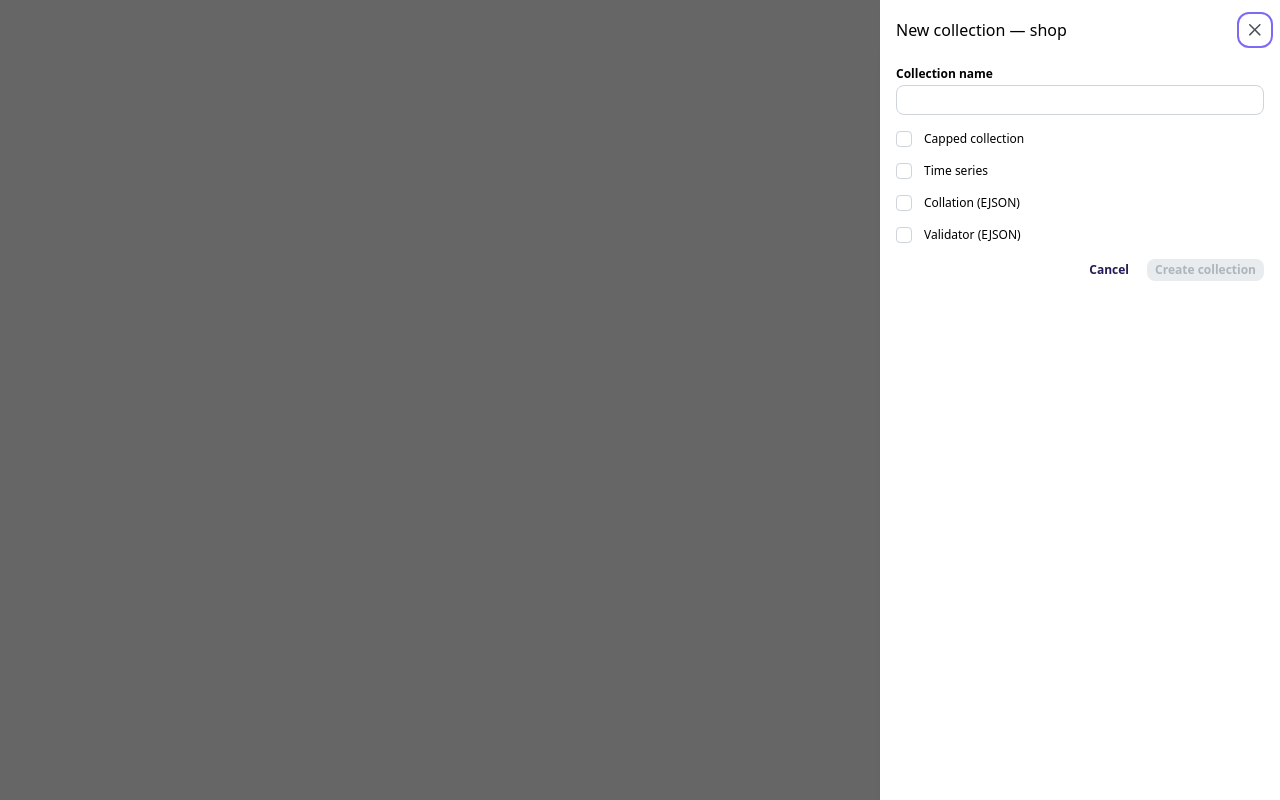
Scenario: CreateCollectionDrawer — fixed dbName (navigator mode) › rejects a JSON array as collation
The image size is (1280, 800).
Type "logs" into the field labelled "Collection name".
click(1080, 100); type("logs")  # box [896,85,1264,115]
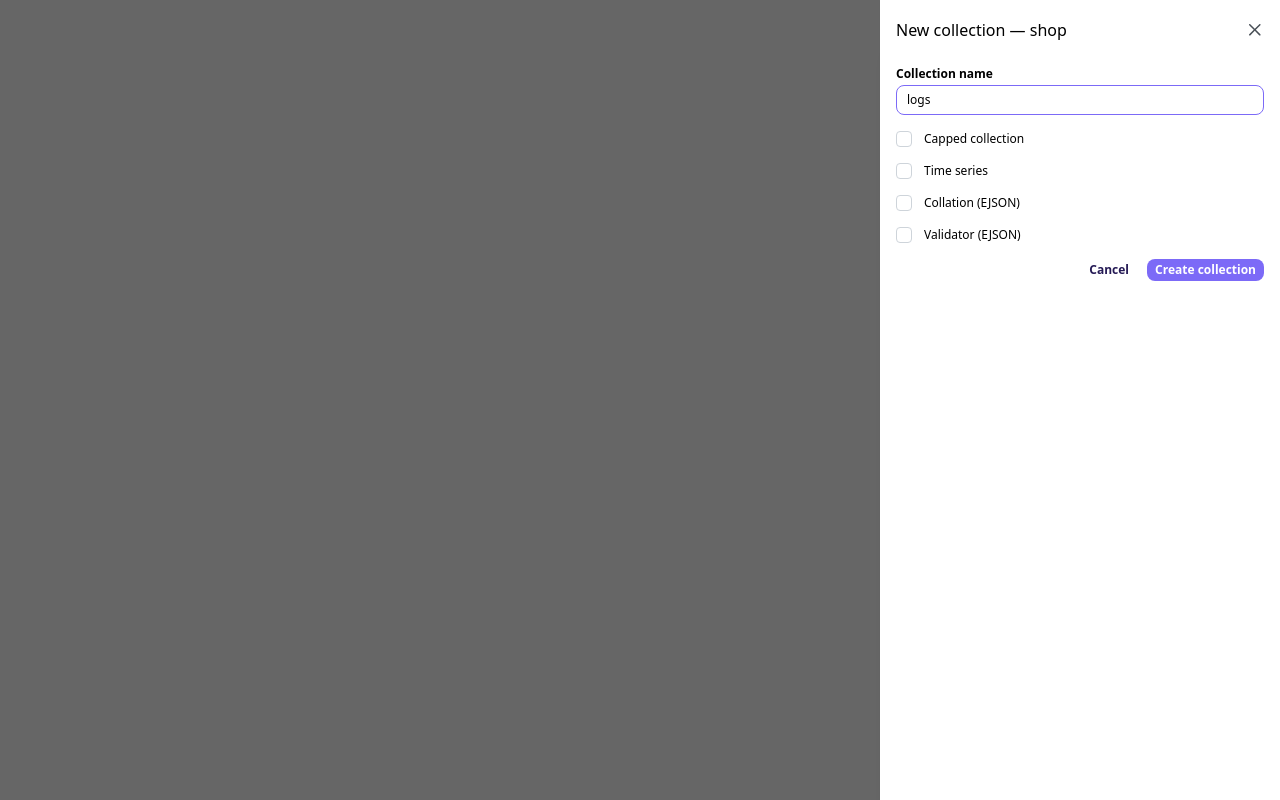
Click the checkbox labelled "Collation".
click(904, 203)  # box [896,195,912,211]
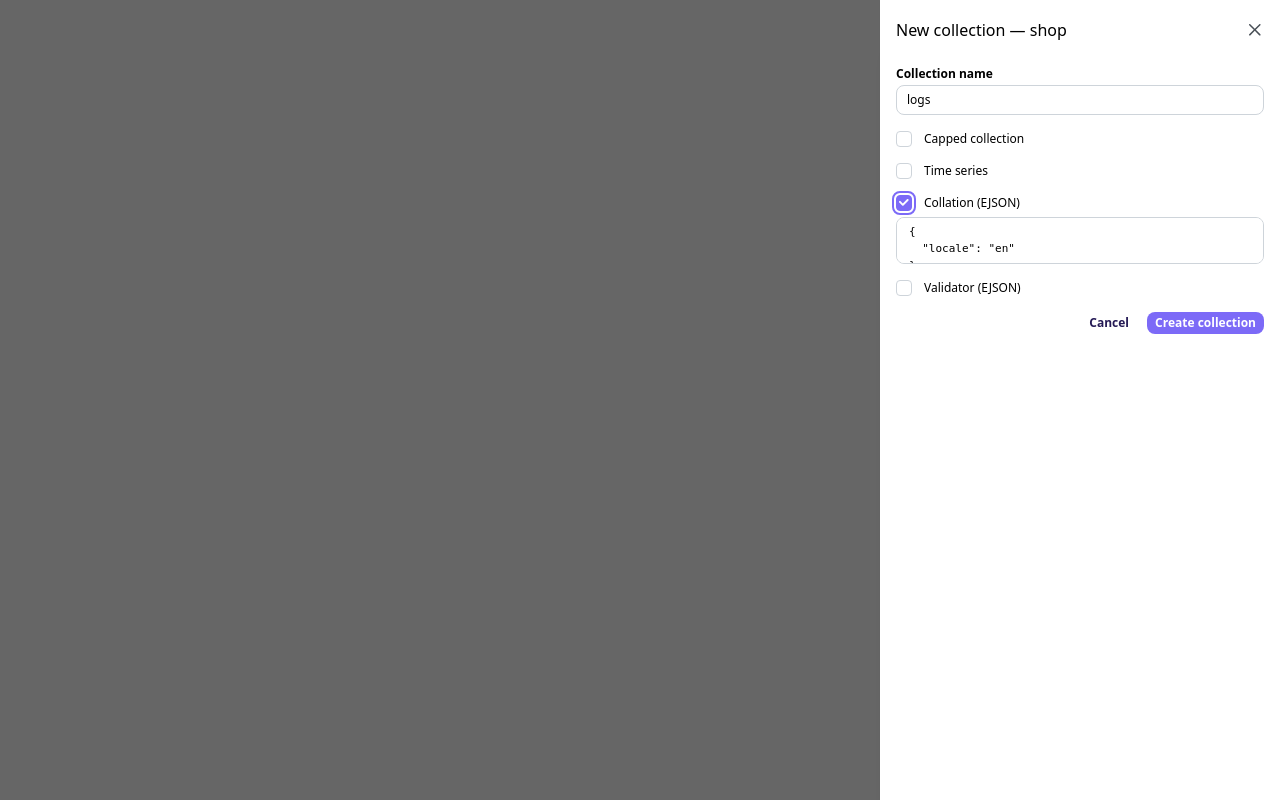
Replace the text in the text box named "Collation EJSON" with "[]" at (1080, 240), box [896,217,1264,264]
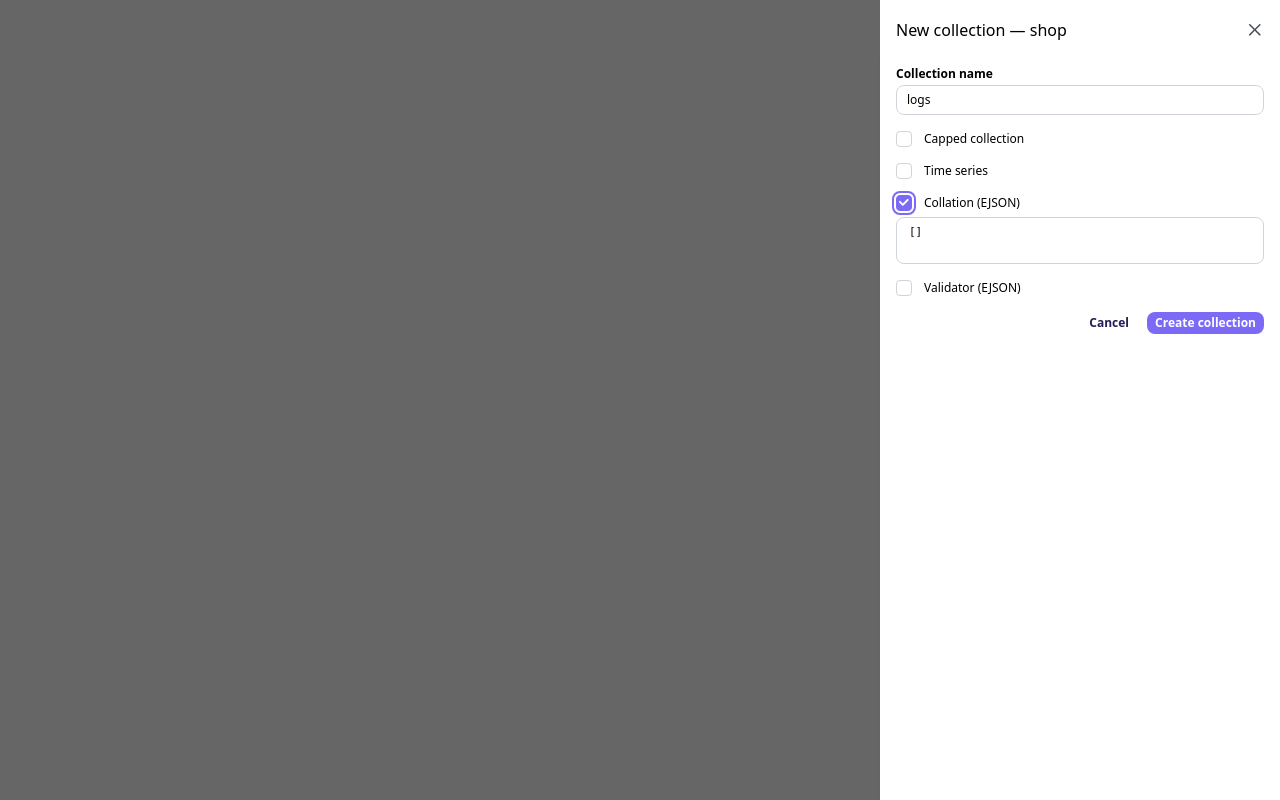
Click the button "Create collection".
click(1206, 323)  # box [1147,312,1264,334]
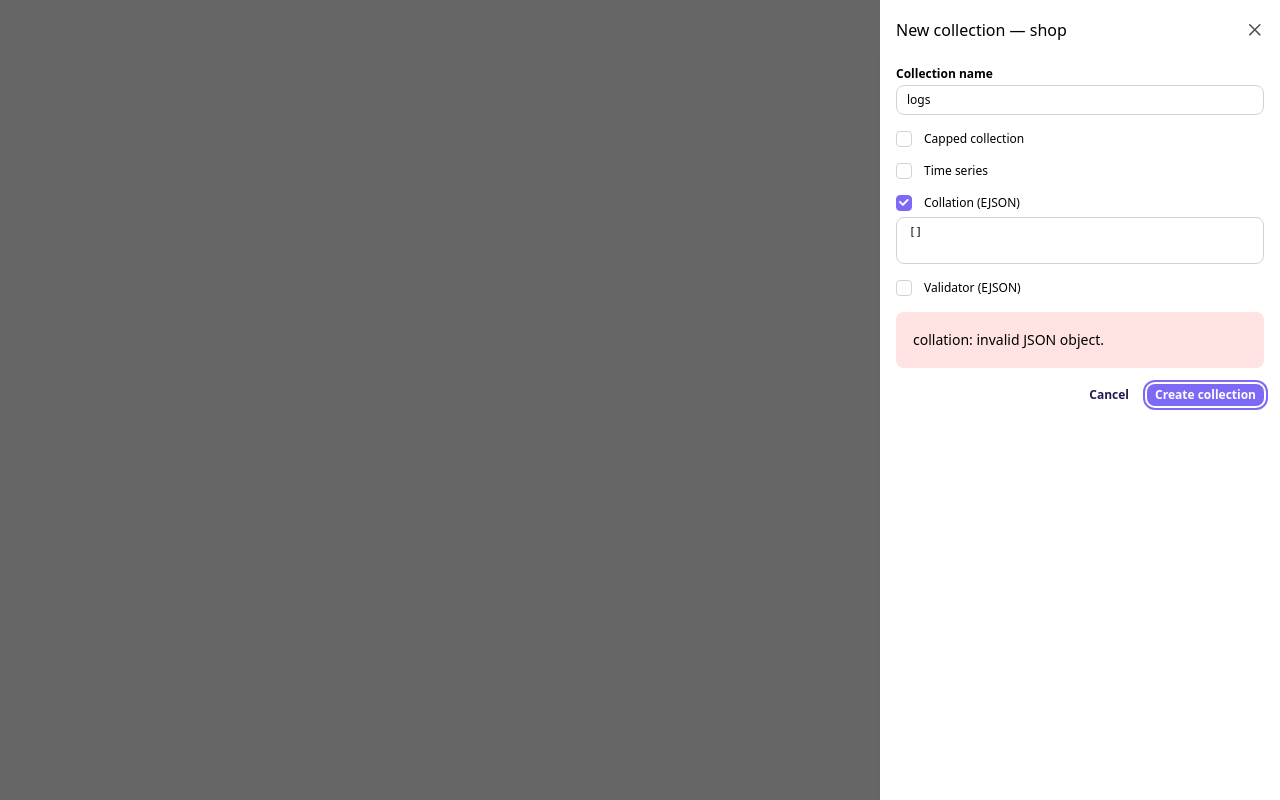
Result: the message shows "collation: invalid JSON object" at [913,330,1104,349]
